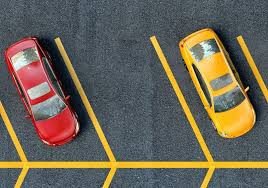Car: (174, 25, 262, 140), (2, 34, 80, 149)
